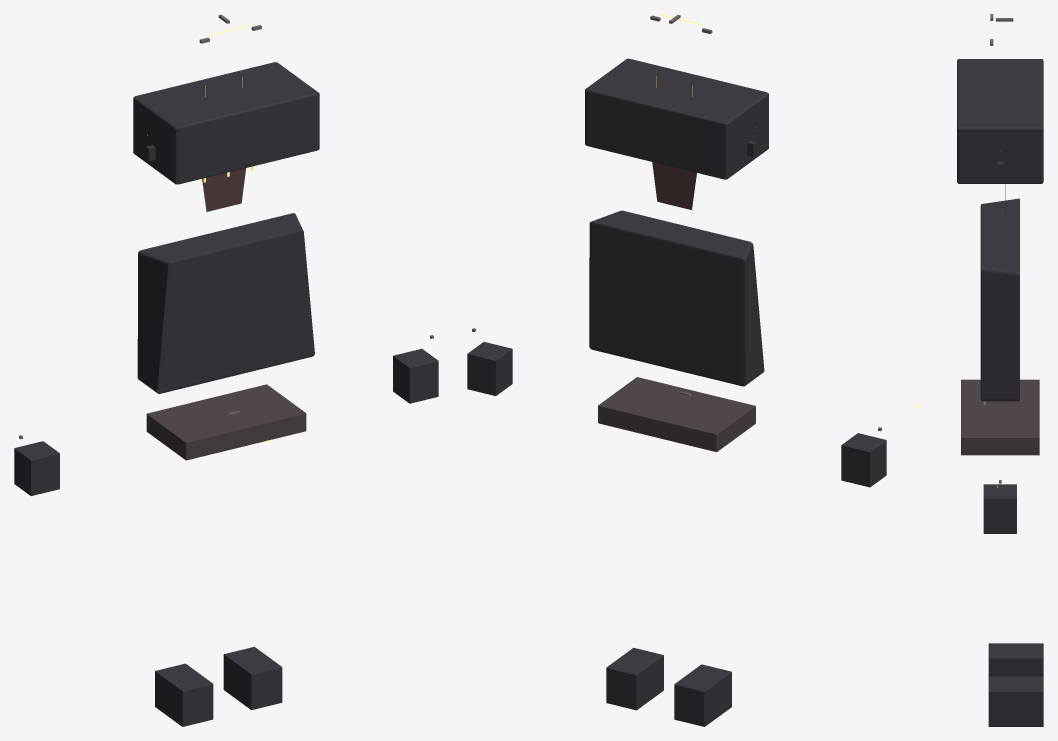
The model's file is outfit_kernel.glb.
The picture shows the model from 3 angles, left to right: view 1: azimuth 30°, elevation 25°; view 2: azimuth 150°, elevation 25°; view 3: azimuth 270°, elevation 25°; orthographic projection.
Visible parts, largest first — view 1: outfit_kernel_chest_cuirass, outfit_kernel_head_helm, outfit_kernel_hip_belt, outfit_kernel_boot_R, outfit_kernel_boot_L, outfit_kernel_glove_R, outfit_kernel_glove_L, outfit_kernel_back_cape; view 2: outfit_kernel_chest_cuirass, outfit_kernel_head_helm, outfit_kernel_hip_belt, outfit_kernel_boot_R, outfit_kernel_boot_L, outfit_kernel_glove_L, outfit_kernel_glove_R, outfit_kernel_back_cape; view 3: outfit_kernel_head_helm, outfit_kernel_chest_cuirass, outfit_kernel_hip_belt, outfit_kernel_boot_R, outfit_kernel_boot_L, outfit_kernel_glove_R.
Boxes of the visible parts, x1=… form: outfit_kernel_chest_cuirass: x1=137, y1=213, x2=314, y2=393; outfit_kernel_head_helm: x1=133, y1=62, x2=319, y2=184; outfit_kernel_hip_belt: x1=146, y1=384, x2=306, y2=460; outfit_kernel_boot_R: x1=223, y1=646, x2=282, y2=709; outfit_kernel_boot_L: x1=155, y1=663, x2=213, y2=726; outfit_kernel_glove_R: x1=393, y1=348, x2=438, y2=403; outfit_kernel_glove_L: x1=14, y1=441, x2=59, y2=495; outfit_kernel_back_cape: x1=202, y1=168, x2=245, y2=211; outfit_kernel_chest_cuirass: x1=589, y1=210, x2=764, y2=386; outfit_kernel_head_helm: x1=585, y1=58, x2=768, y2=179; outfit_kernel_hip_belt: x1=598, y1=377, x2=755, y2=451; outfit_kernel_boot_R: x1=606, y1=647, x2=663, y2=710; outfit_kernel_boot_L: x1=674, y1=664, x2=731, y2=726; outfit_kernel_glove_L: x1=841, y1=433, x2=886, y2=487; outfit_kernel_glove_R: x1=467, y1=342, x2=512, y2=395; outfit_kernel_back_cape: x1=652, y1=162, x2=696, y2=209; outfit_kernel_head_helm: x1=957, y1=59, x2=1043, y2=183; outfit_kernel_chest_cuirass: x1=980, y1=198, x2=1019, y2=401; outfit_kernel_hip_belt: x1=961, y1=379, x2=1039, y2=455; outfit_kernel_boot_R: x1=988, y1=676, x2=1043, y2=726; outfit_kernel_boot_L: x1=988, y1=643, x2=1043, y2=676; outfit_kernel_glove_R: x1=983, y1=484, x2=1016, y2=533.
Bounding box in the file's own units: 1.2 × 1.93 × 0.326.
